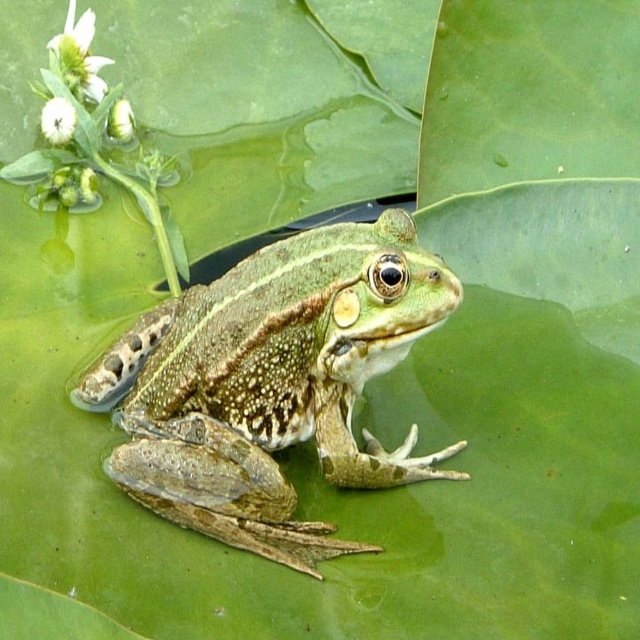Frog: (69, 208, 473, 582)
